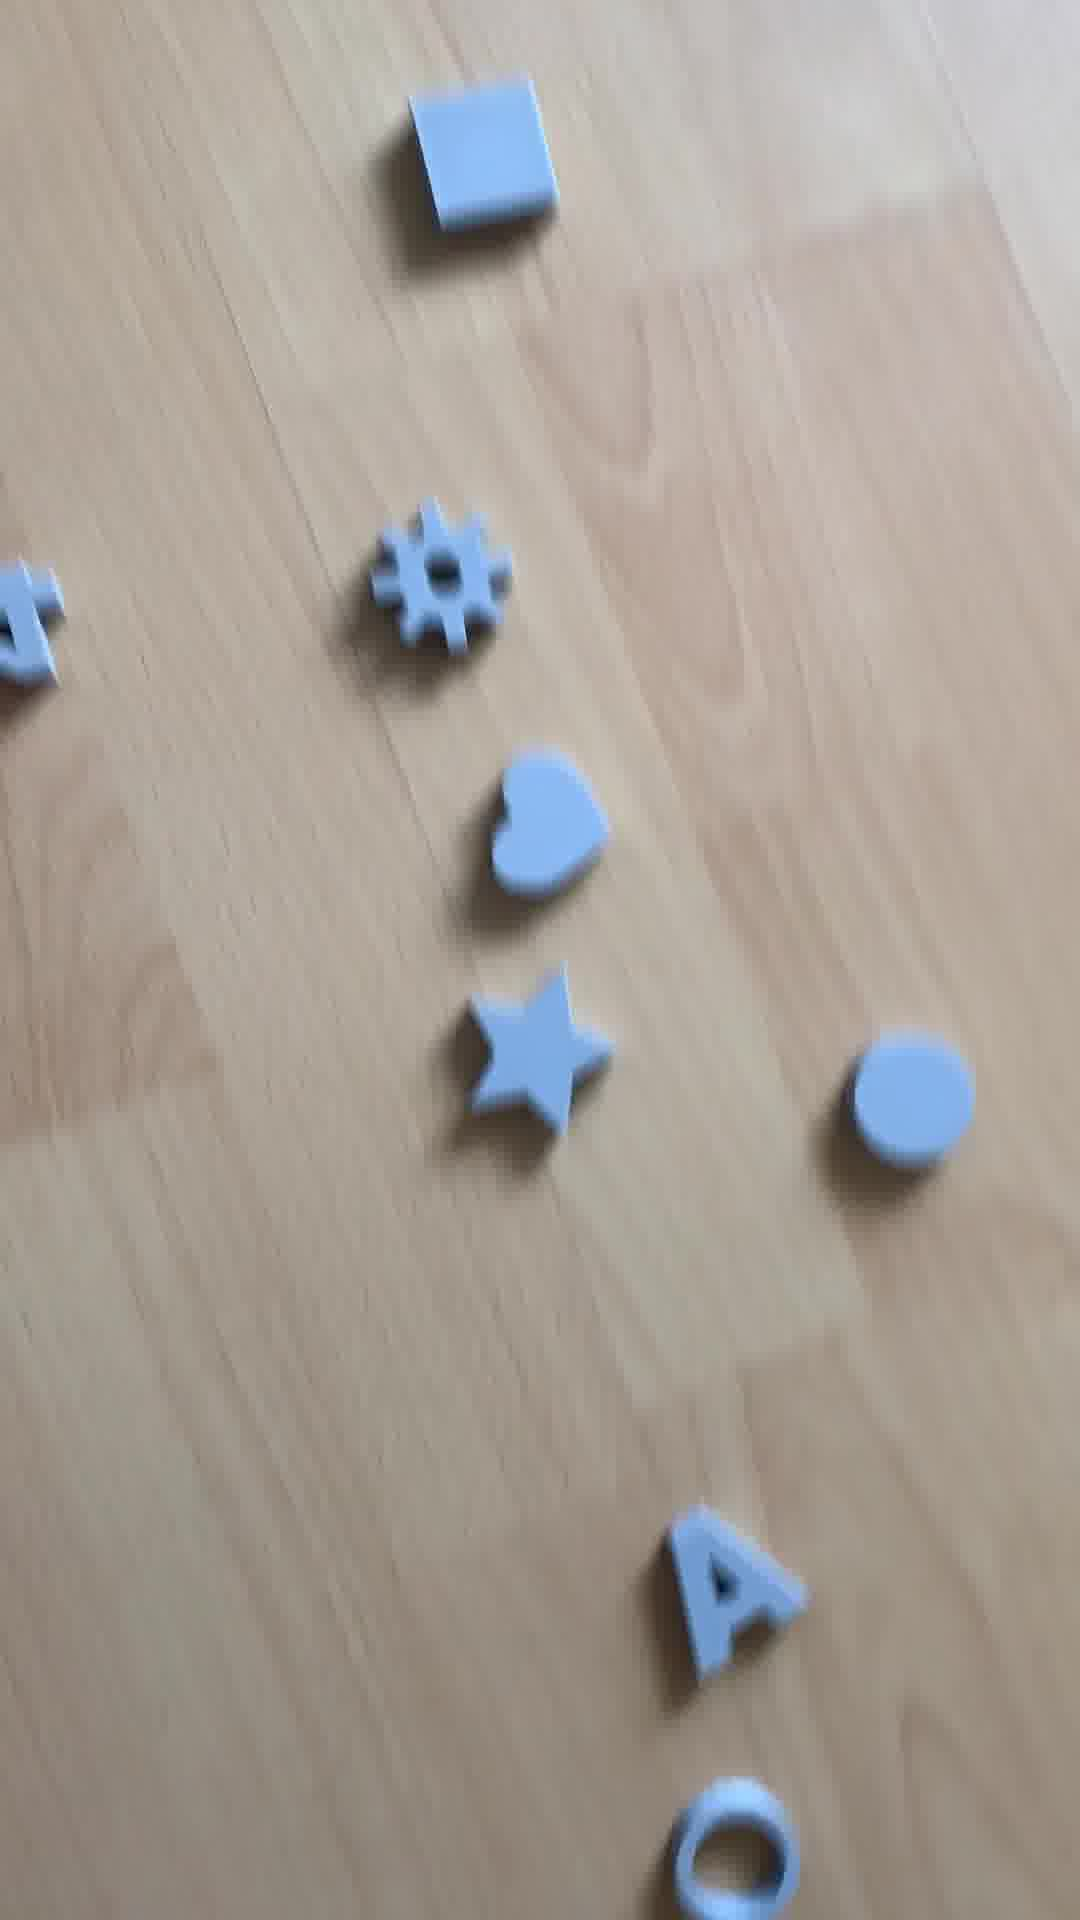Gray A-letter: (665, 1501, 814, 1673)
Gray circle: (841, 1029, 990, 1175)
Gray four: (1, 554, 104, 717)
Gray gear: (371, 502, 537, 667)
Gray heart: (480, 735, 611, 932)
Gray ring: (676, 1779, 818, 1920)
Gray square: (400, 91, 556, 225)
Gray star: (451, 971, 625, 1146)
